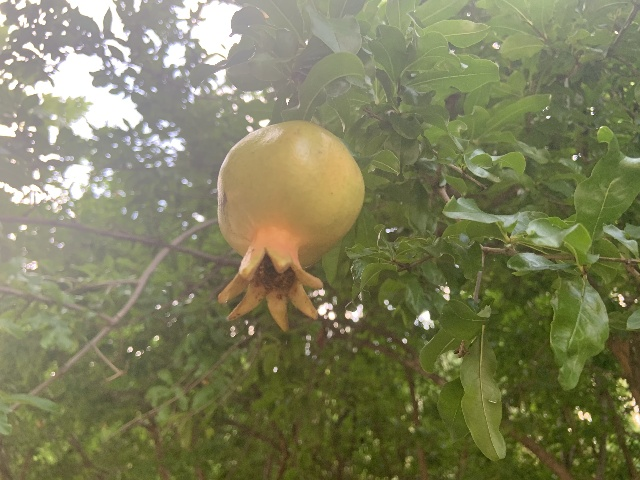mid-growth: (214, 120, 364, 333)
